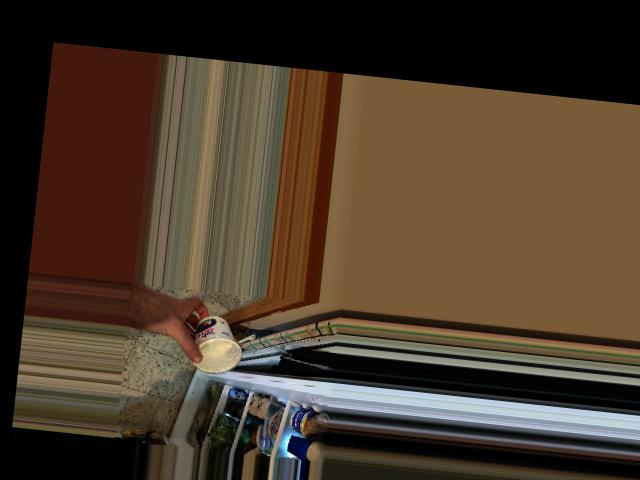cotage: (189, 314, 240, 374)
